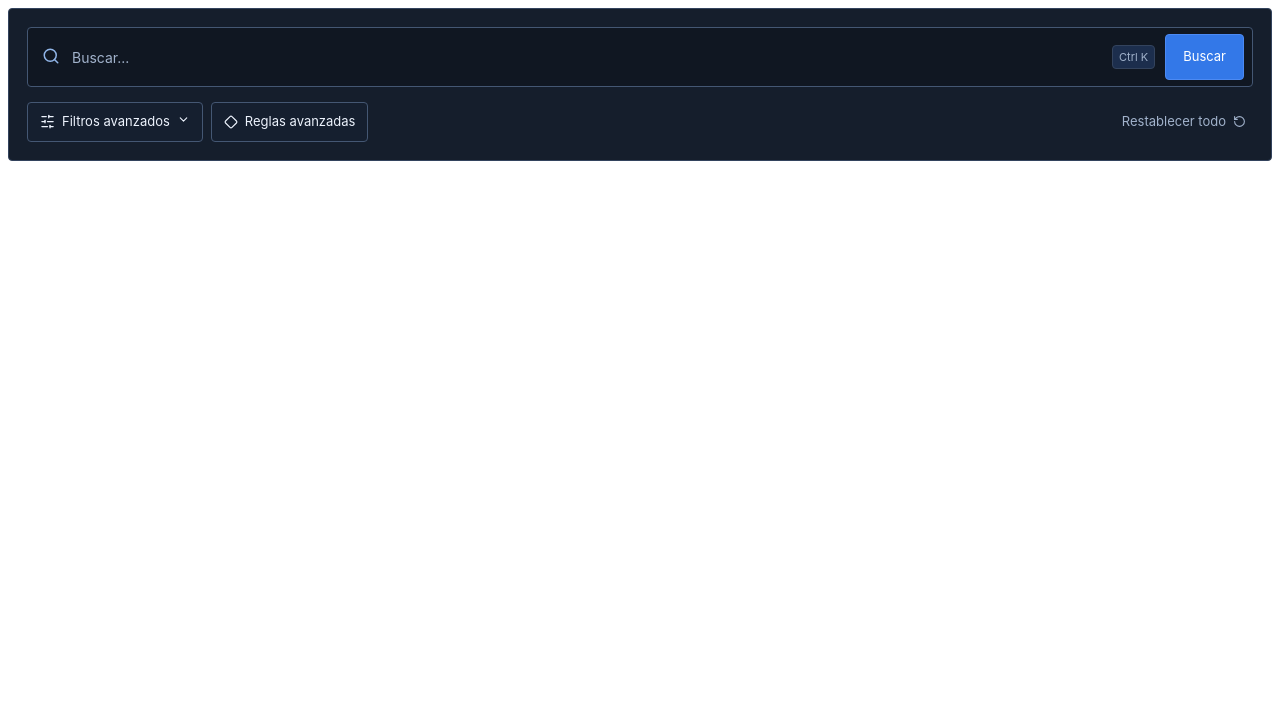
Generic SearchBar › only displays one advanced panel and supports removing a rule
Click the button "Filtros avanzados": [115, 122] box x1=27 y1=102 x2=203 y2=142
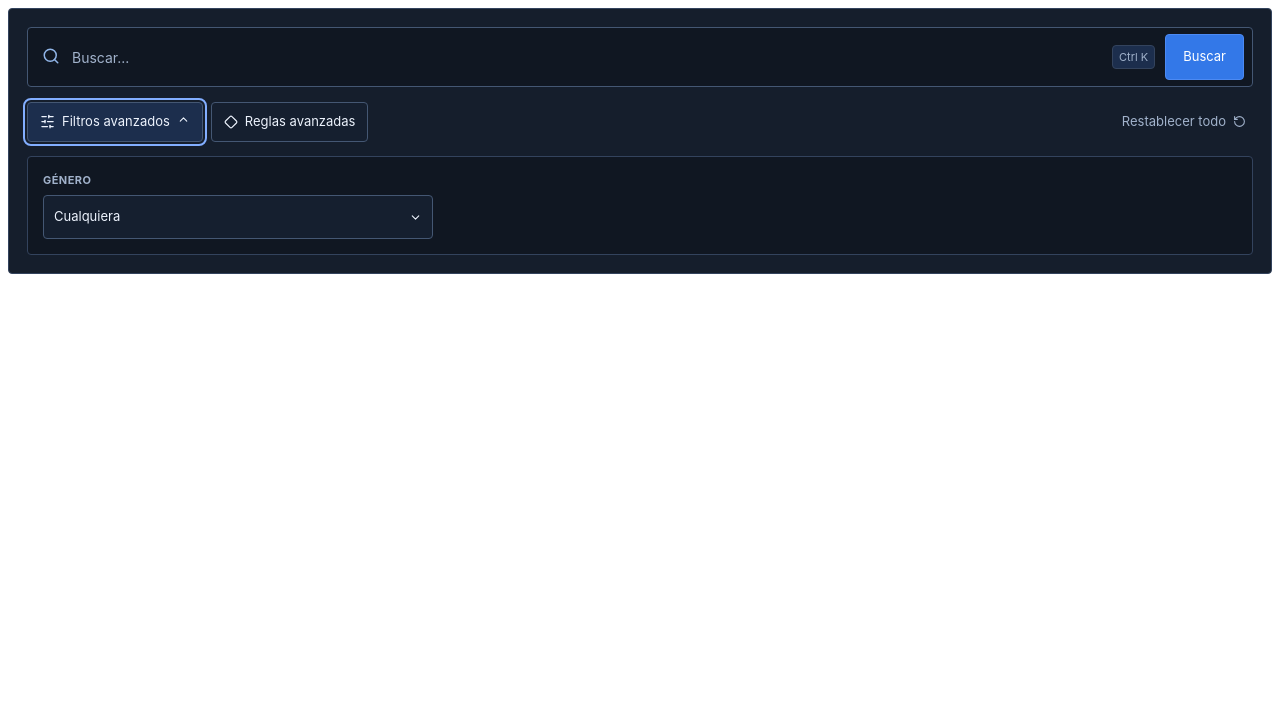
Click the button with aria-label "Género, 0 seleccionados": [87, 216] box x1=43 y1=195 x2=433 y2=239
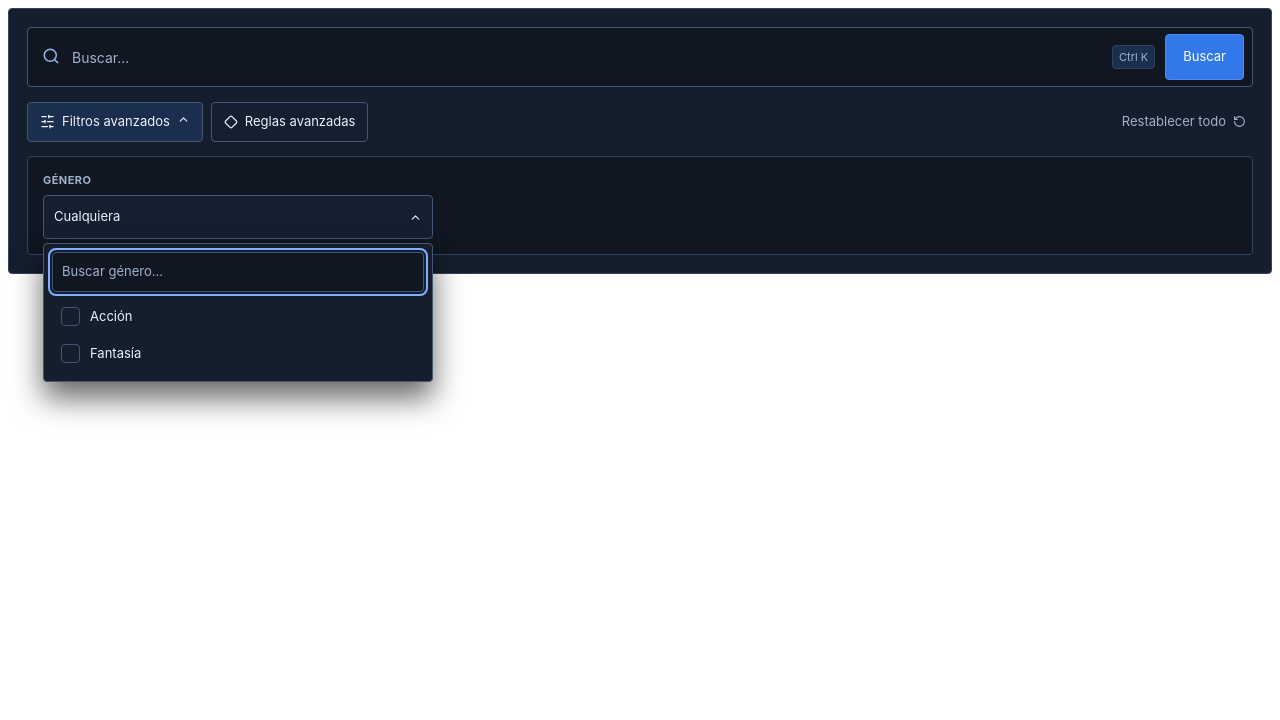
Click the button with aria-label "Acción: sin seleccionar": [111, 316] box x1=52 y1=298 x2=424 y2=335
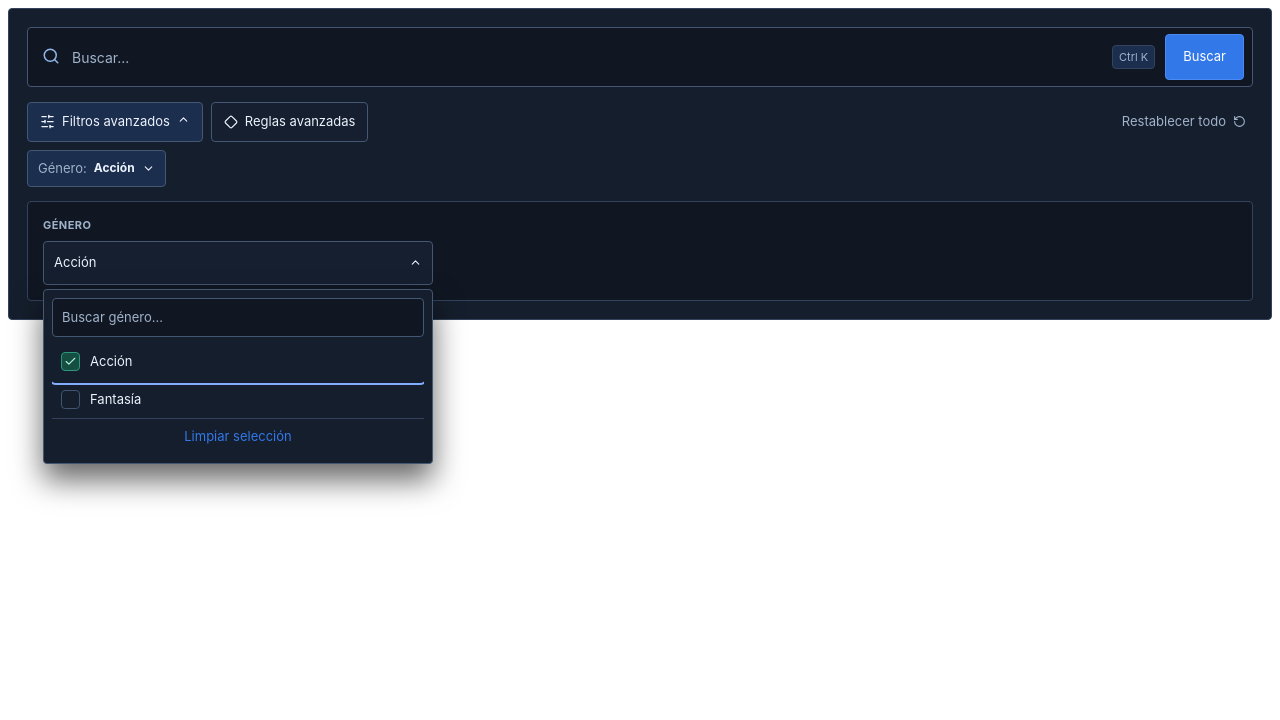
Click the button "Reglas avanzadas": [290, 122] box x1=211 y1=102 x2=368 y2=142
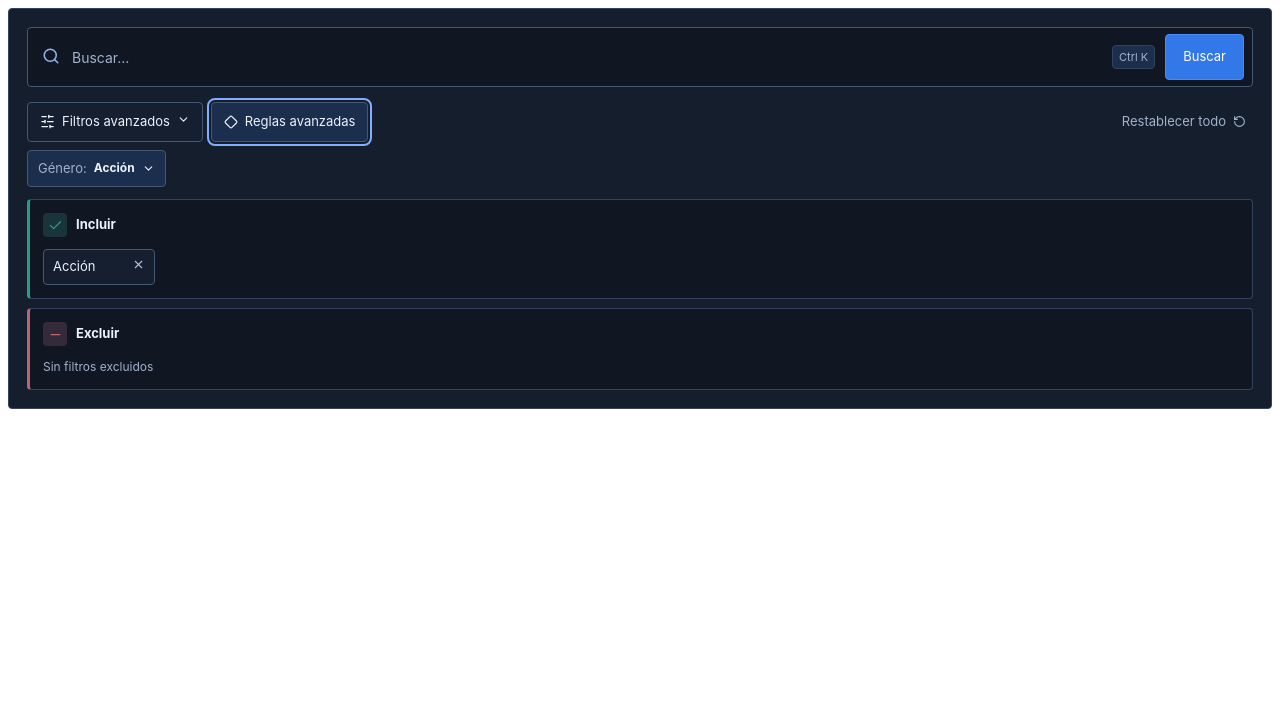
Result: the button "Reglas avanzadas" is expanded at x1=211 y1=102 x2=368 y2=142
Click the button named "Eliminar Acción": [139, 267] box x1=123 y1=250 x2=154 y2=284
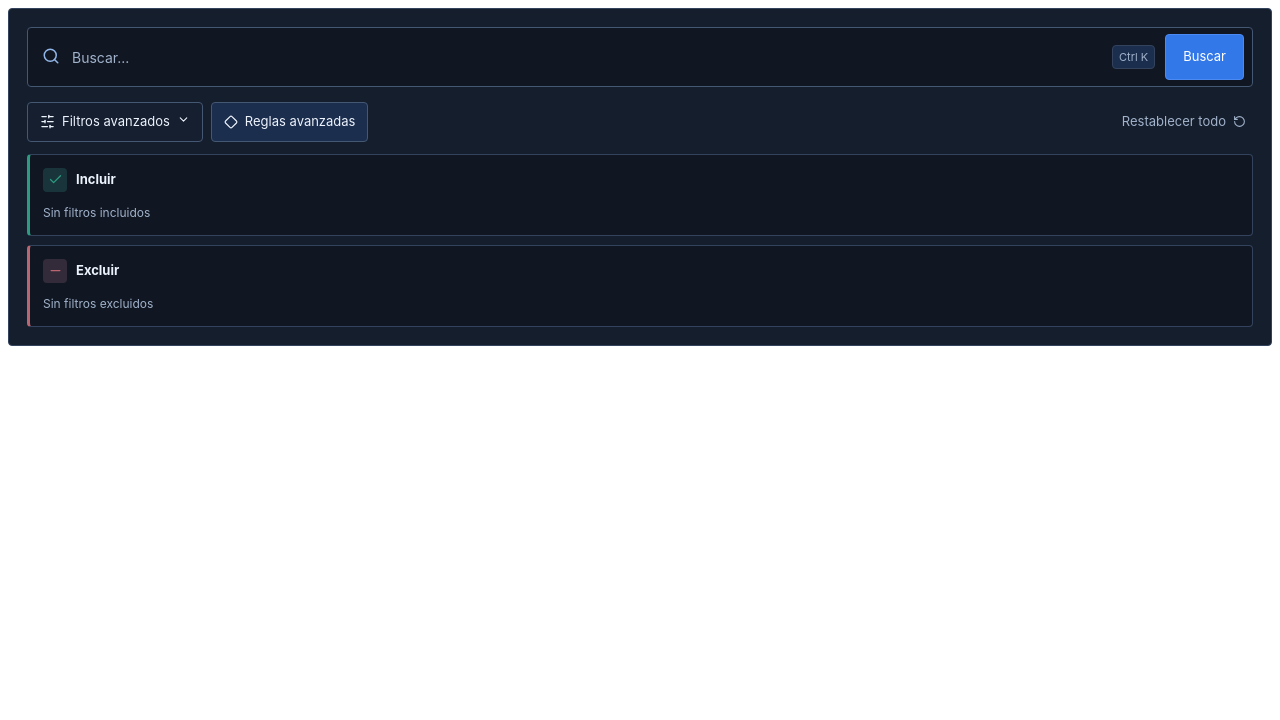
Result: the text "Sin filtros incluidos" is shown at x1=43 y1=204 x2=150 y2=222
